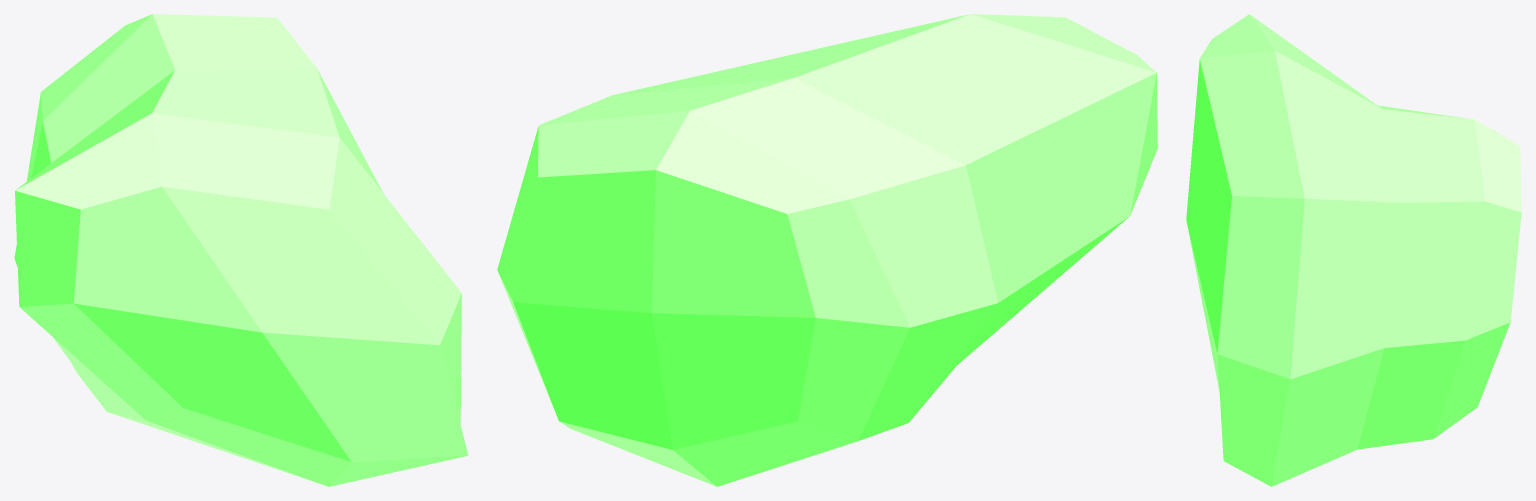
The model's file is blob.glb.
The picture shows the model from 3 angles, left to right: view 1: azimuth 30°, elevation 25°; view 2: azimuth 150°, elevation 25°; view 3: azimuth 270°, elevation 25°; orthographic projection. The views are drawn at different scales.
Visible parts, largest first — view 1: Cube; view 2: Cube; view 3: Cube.
Boxes of the visible parts, left/top/right/bottom form: Cube: left=14, top=14, right=468, bottom=486; Cube: left=497, top=14, right=1157, bottom=486; Cube: left=1186, top=14, right=1521, bottom=486.
Bounding box in the file's own units: 1.49 × 1.27 × 1.18.
